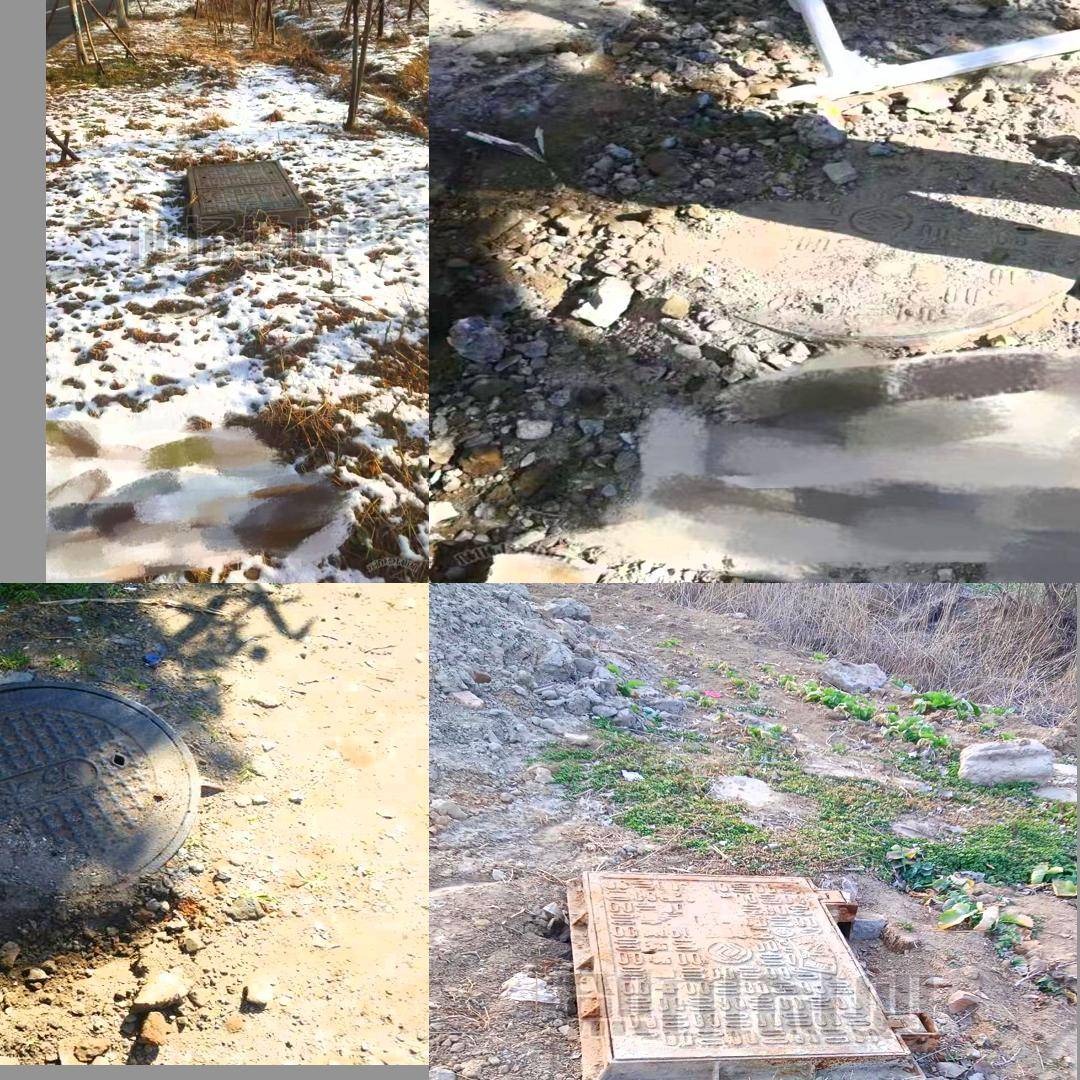circle: (579, 132, 1080, 385), (553, 864, 940, 1080), (0, 674, 281, 938), (181, 159, 318, 242)
